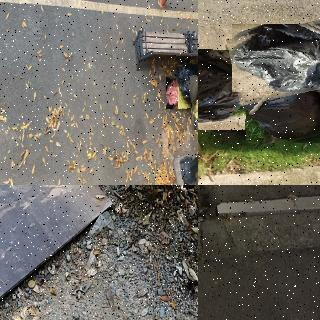Garbage: (229, 17, 320, 98), (242, 71, 320, 146), (198, 49, 258, 130), (175, 63, 198, 108), (166, 76, 182, 109), (189, 75, 198, 131)
